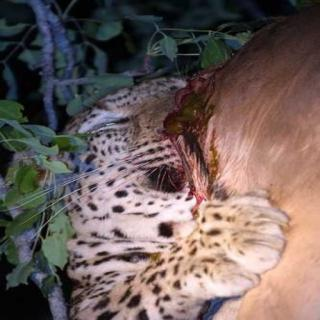Leopard: (49, 64, 274, 320)
